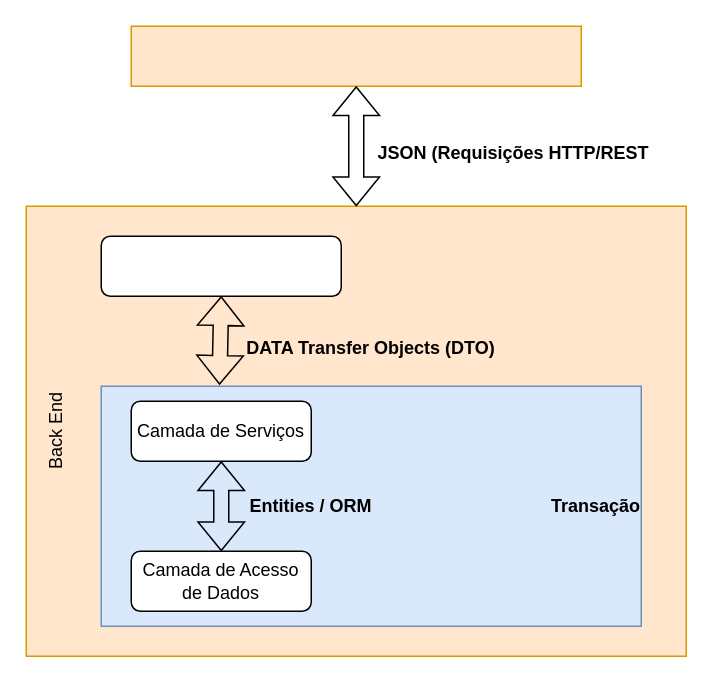
The diagram is 713 pixels wide and 683 high, and some of its shapes have lost their labels. Each missing label, with the centre of its shape:
"Controlador REST" belongs at pixel 220 265.
"Front End (app)" belongs at pixel 355 55.
